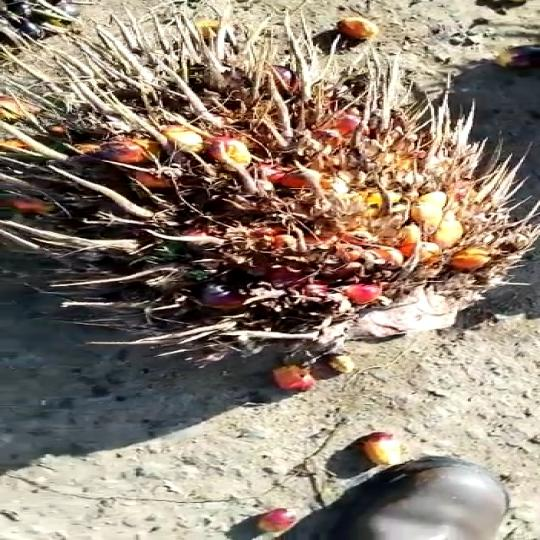terlalu masak: (0, 6, 540, 344)
